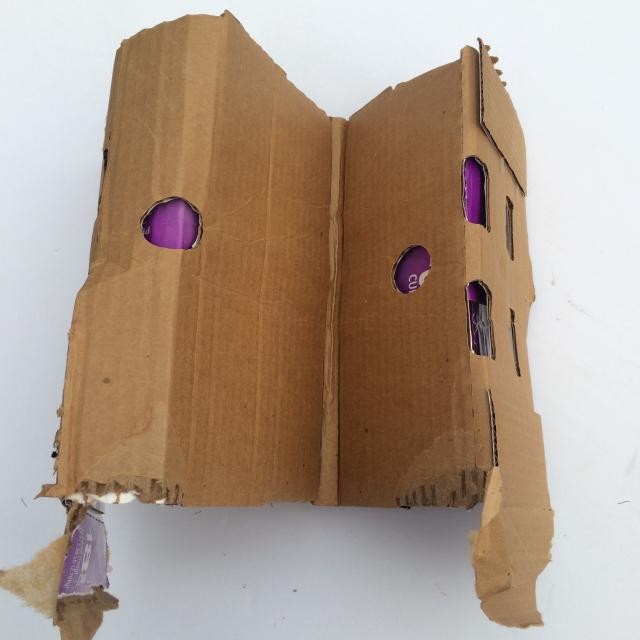cardboard: (61, 10, 584, 640)
